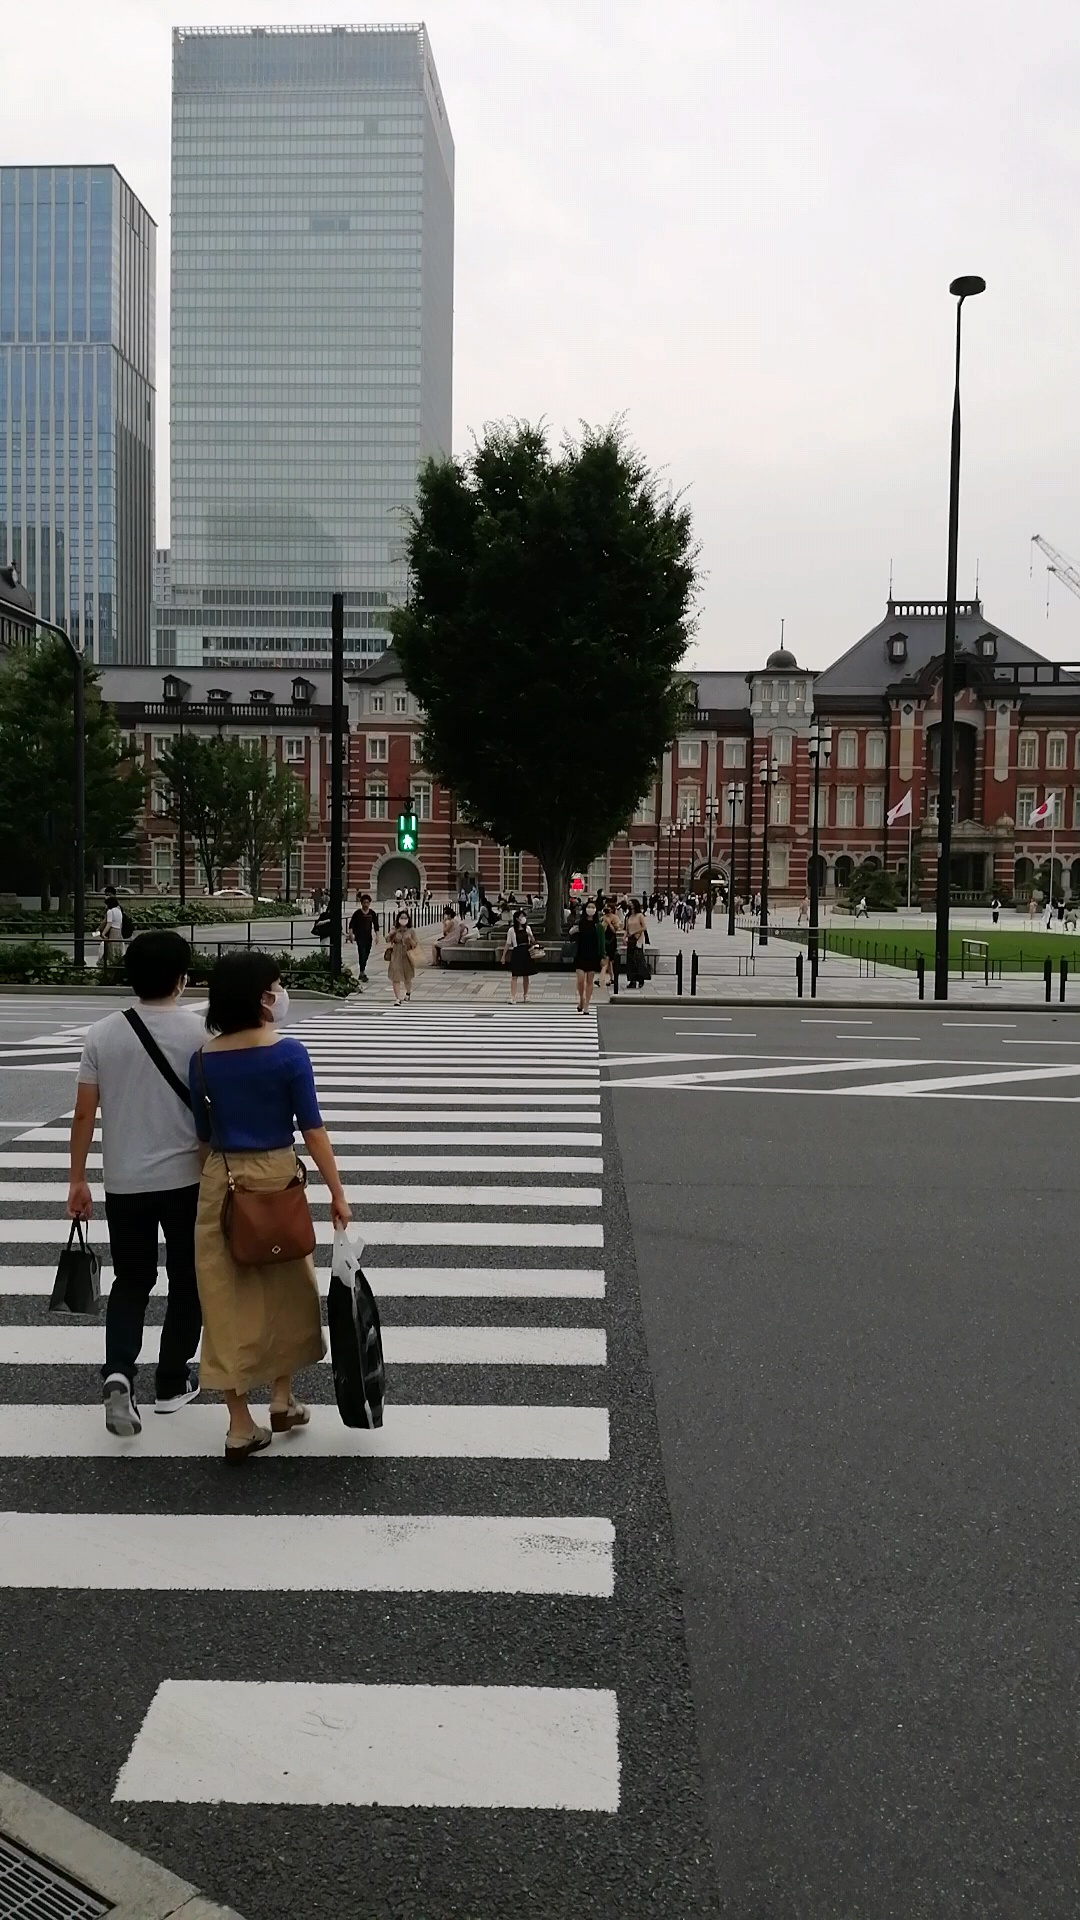green: (396, 810, 421, 855)
